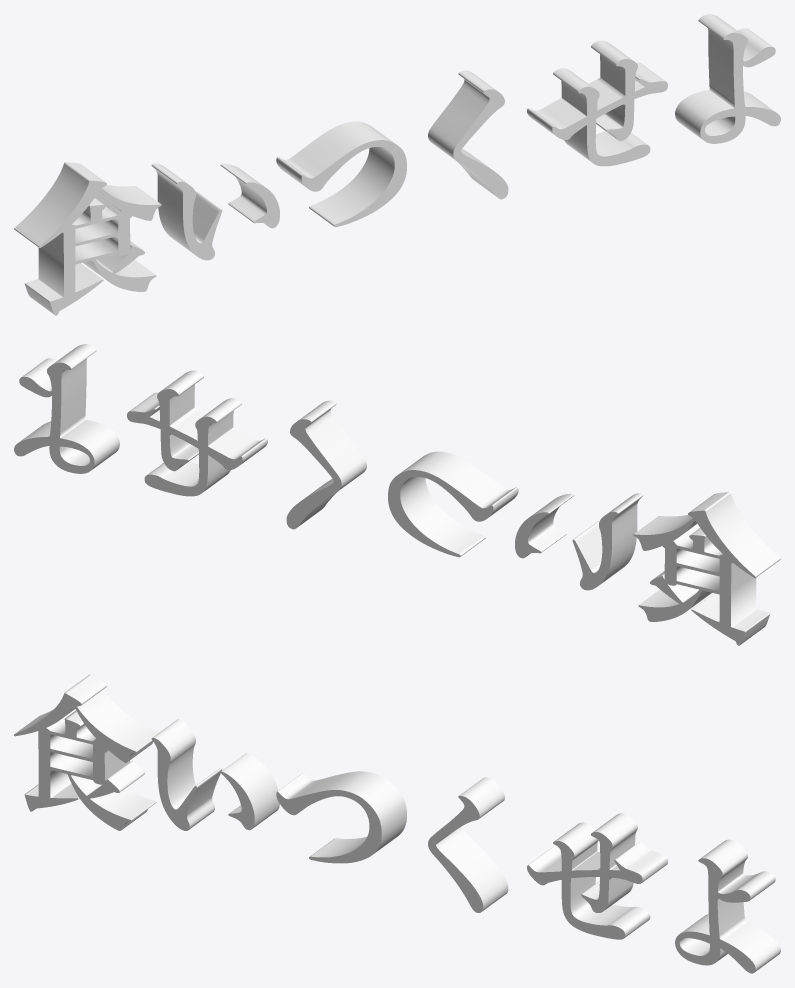
File: SubTitle.obj
3 renders of one model, top to bottom at view 1: azimuth 30°, elevation 25°; view 2: azimuth 150°, elevation 25°; view 3: azimuth 330°, elevation 25°, orthographic.
Visible parts, largest first — view 1: テキスト; view 2: テキスト; view 3: テキスト.
Part boxes in pixels (bbox=[...]): テキスト: bbox=[14, 14, 780, 315]; テキスト: bbox=[14, 344, 780, 645]; テキスト: bbox=[14, 674, 780, 973].
Size of the model in its own units: 3.38 by 0.5545 by 0.2.
1 material, 1 textured.
